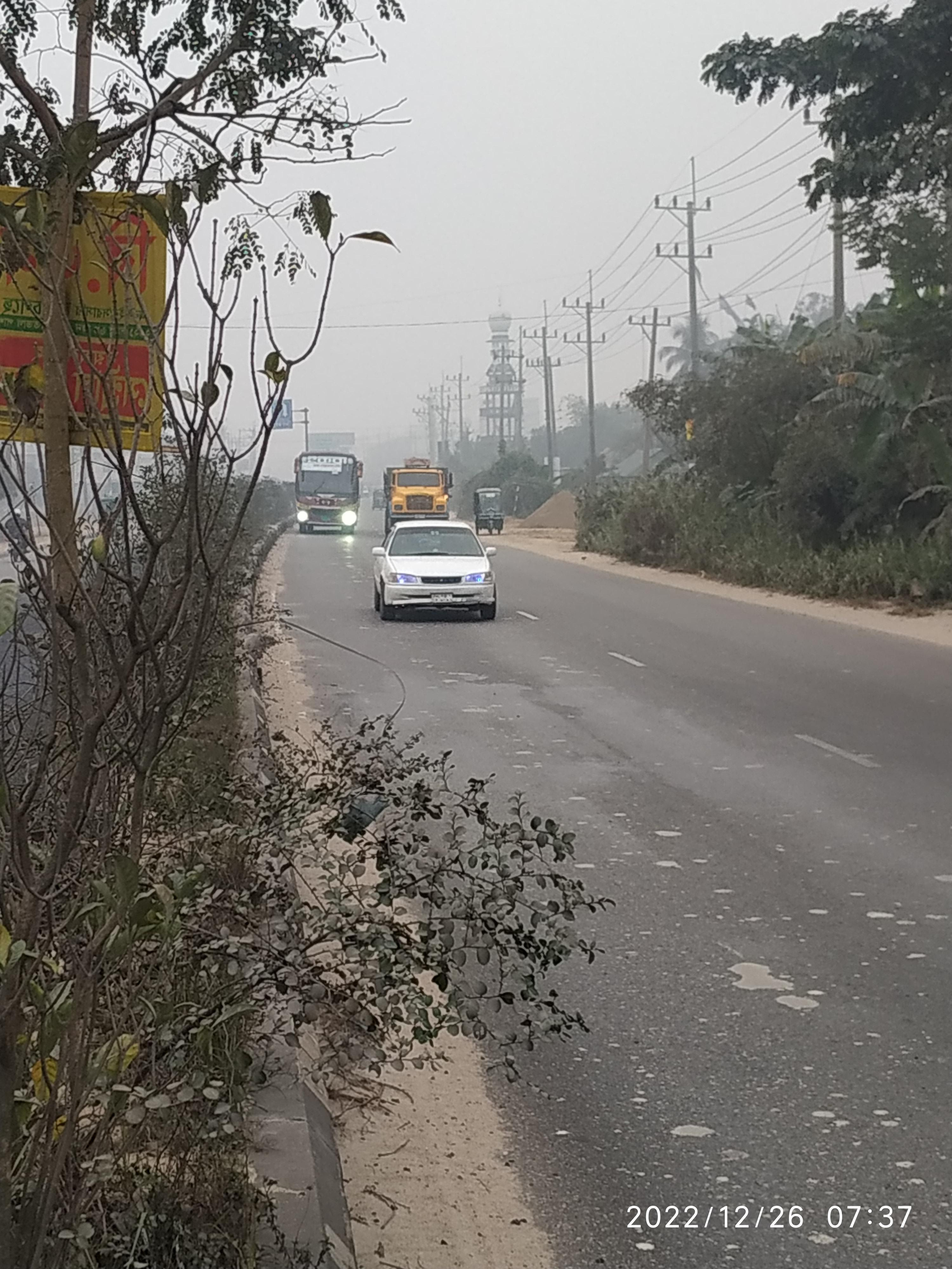Bus: (281, 436, 374, 546)
Car: (350, 511, 524, 638), (465, 474, 519, 547)
Truck: (379, 447, 465, 546)
